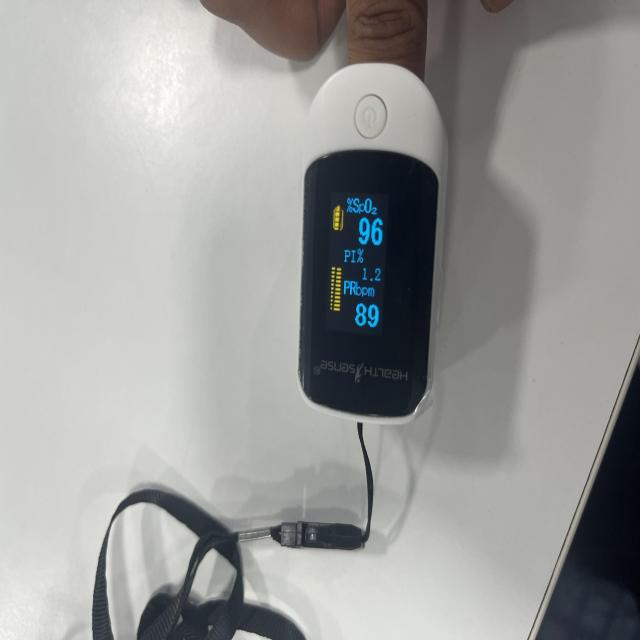spo2: (297, 64, 443, 425)
